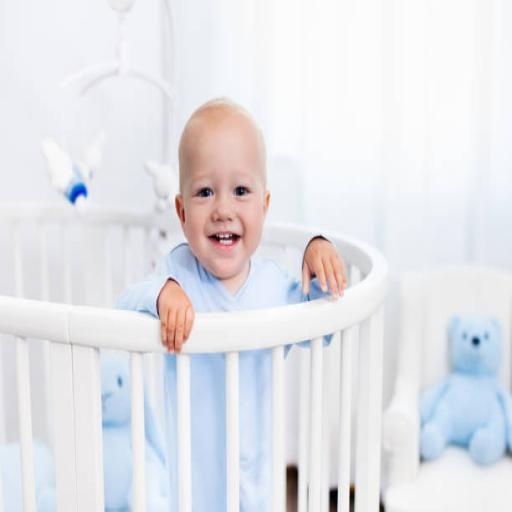baby: (118, 100, 345, 353)
crib: (177, 234, 387, 511)
